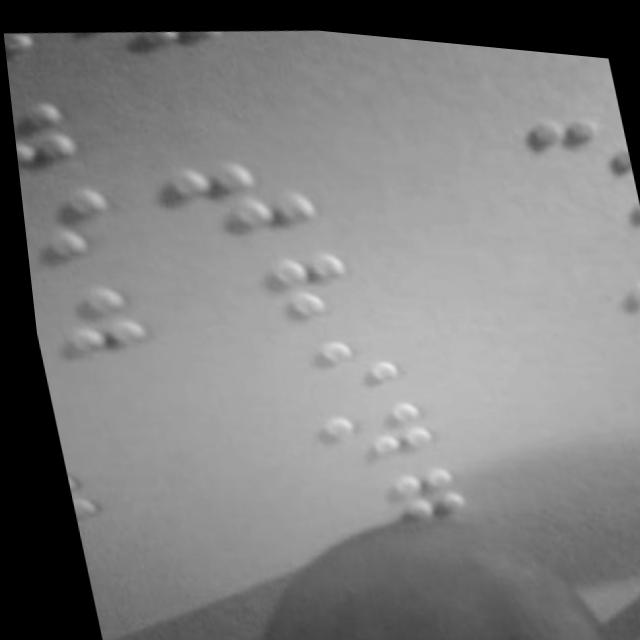braiile: (160, 136, 329, 247), (319, 444, 461, 540), (220, 231, 365, 324), (289, 379, 438, 468), (262, 309, 403, 394), (520, 90, 632, 177), (16, 182, 126, 267), (558, 174, 640, 249), (575, 252, 640, 331), (599, 325, 640, 396)
